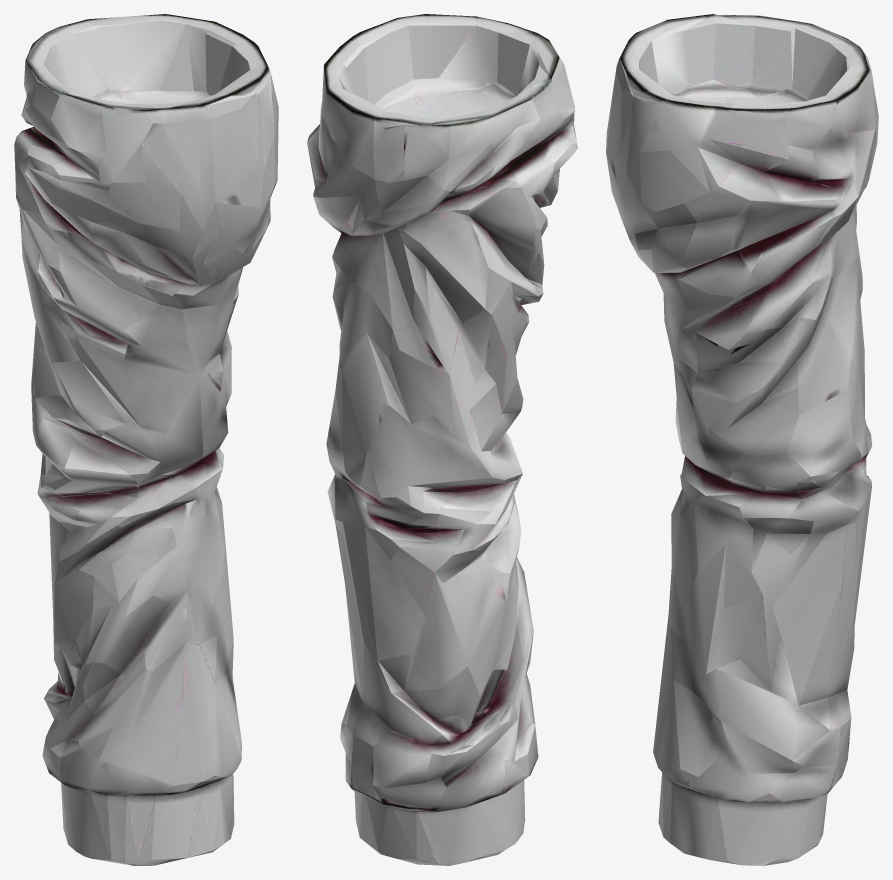
File: arm_suit.glb
3 renders of one model, left to right at view 1: azimuth 30°, elevation 25°; view 2: azimuth 150°, elevation 25°; view 3: azimuth 270°, elevation 25°, orthographic.
Size of the model in its own units: 0.3146 by 1 by 0.319.
Materials: 1 (1 with a texture image).
